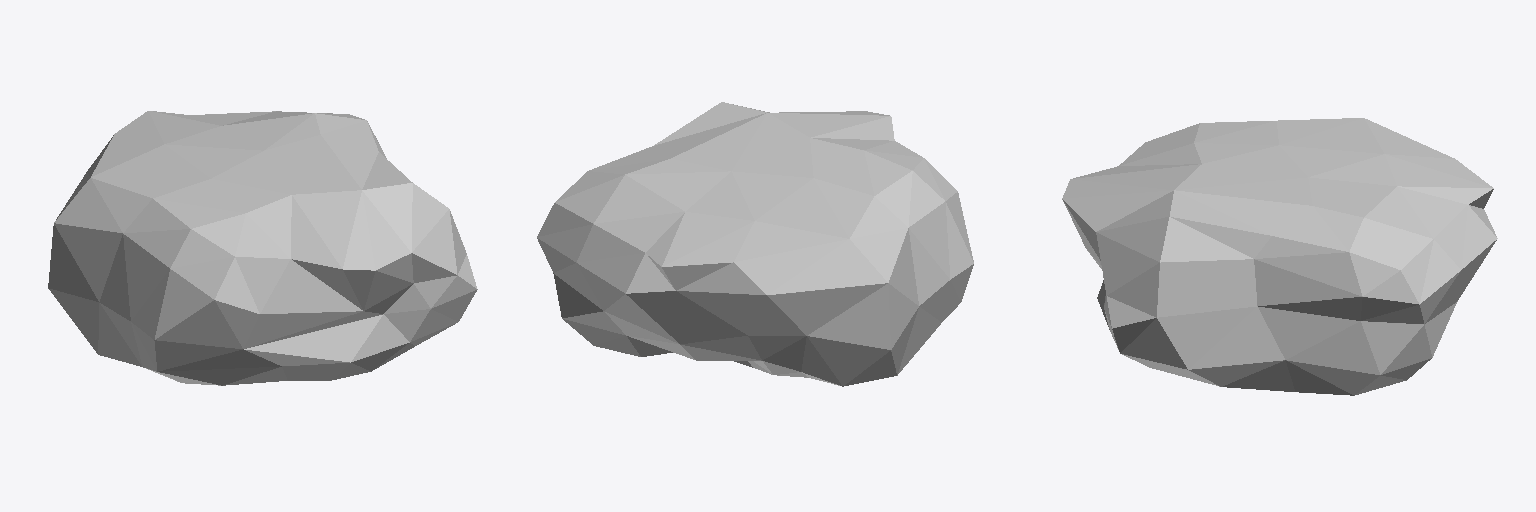
Rendered from rock.obj.
3 views of the same model, side by side, from view 1: azimuth 30°, elevation 25°; view 2: azimuth 150°, elevation 25°; view 3: azimuth 270°, elevation 25° (orthographic).
Visible parts, largest first — view 1: Rock1_Mesh3; view 2: Rock1_Mesh3; view 3: Rock1_Mesh3.
Boxes of the visible parts, <box> form: Rock1_Mesh3: <box>48,111,477,385</box>; Rock1_Mesh3: <box>537,102,973,386</box>; Rock1_Mesh3: <box>1062,118,1497,395</box>.
Size of the model in its own units: 3.18 by 1.68 by 3.63.